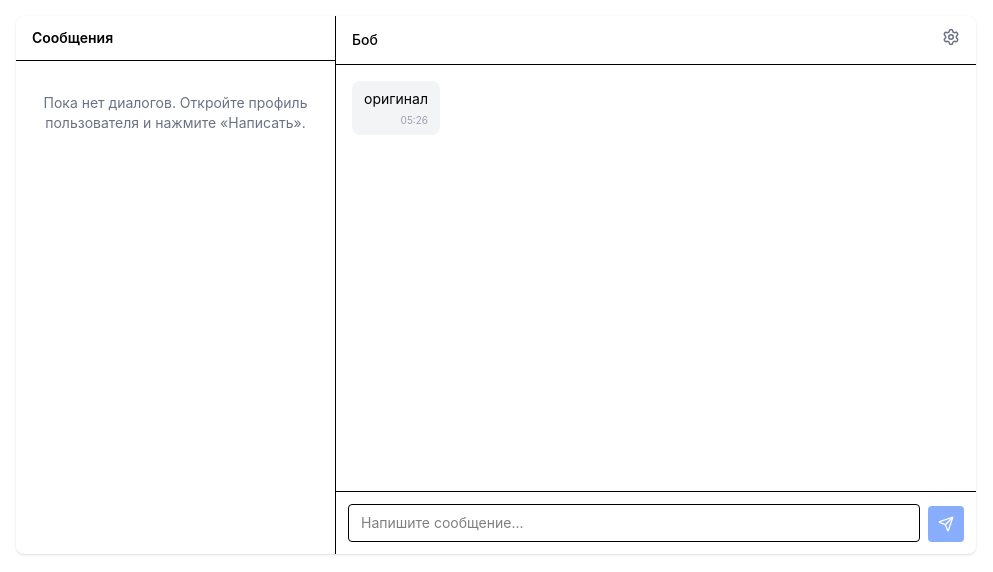
Test case: MessagesPage: ответы › отправка с плашкой передаёт id оригинала и убирает плашку
This screenshot has width=993, height=572.
Click the text "оригинал" at [396, 99], box 364,89 -> 428,109
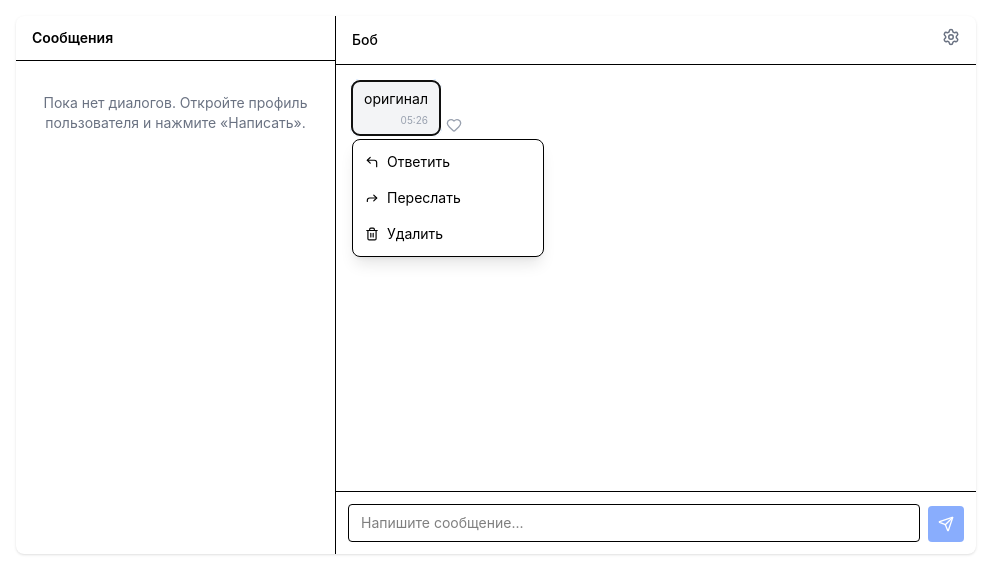
Click the menu item "Ответить" at [448, 162], box 353,144 -> 543,180
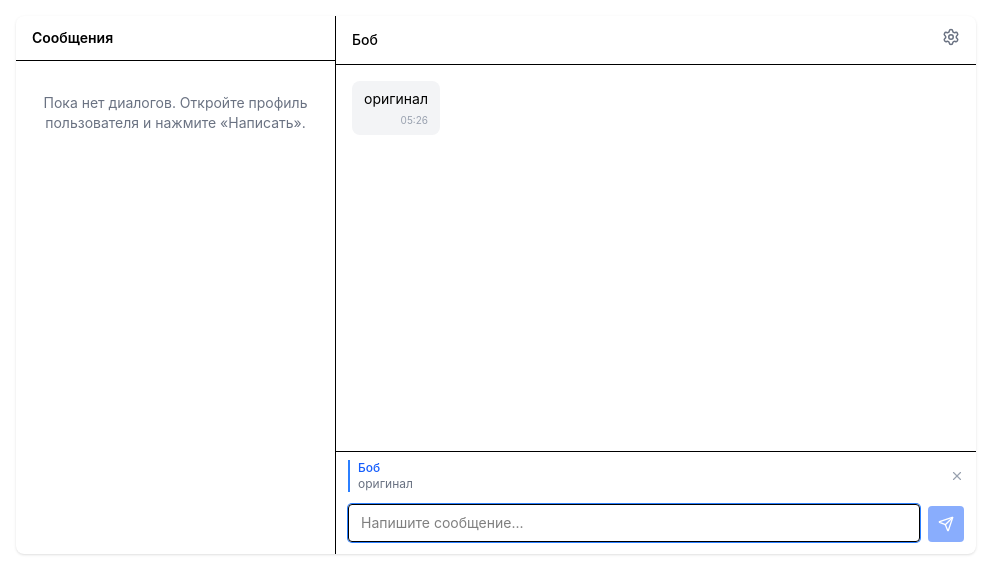
Type "ответ" into the text box with placeholder "Напишите сообщение..." at [634, 523], box 348,504 -> 920,542
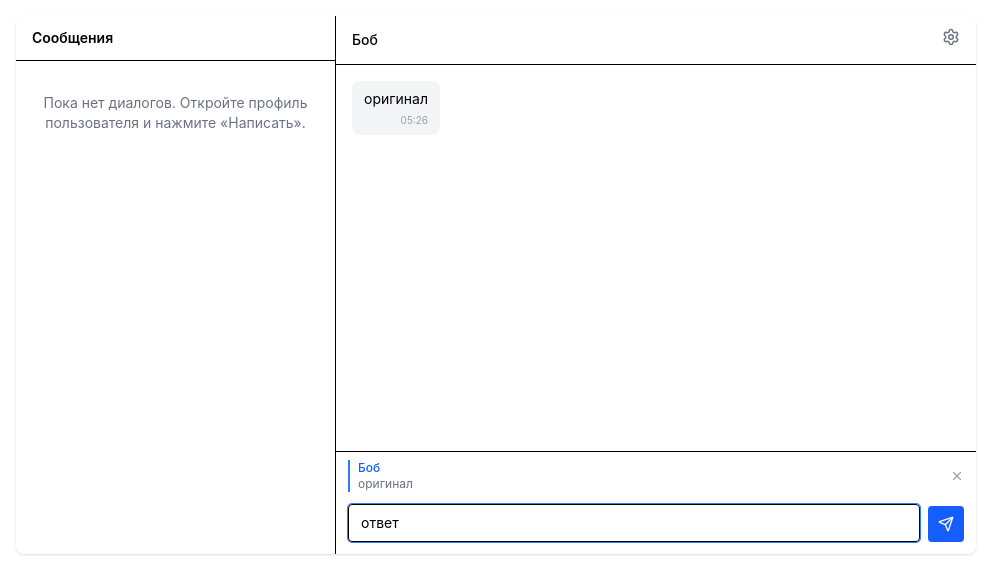
Click the button named "Отправить" at [946, 524], box 928,506 -> 964,542
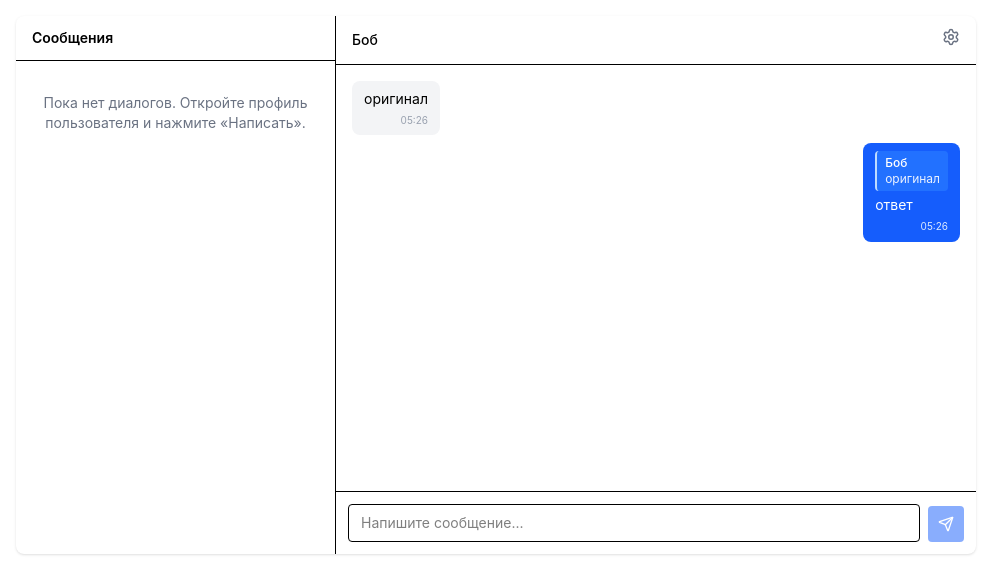
Expected: the text "ответ" is shown, 875,196 -> 913,213
